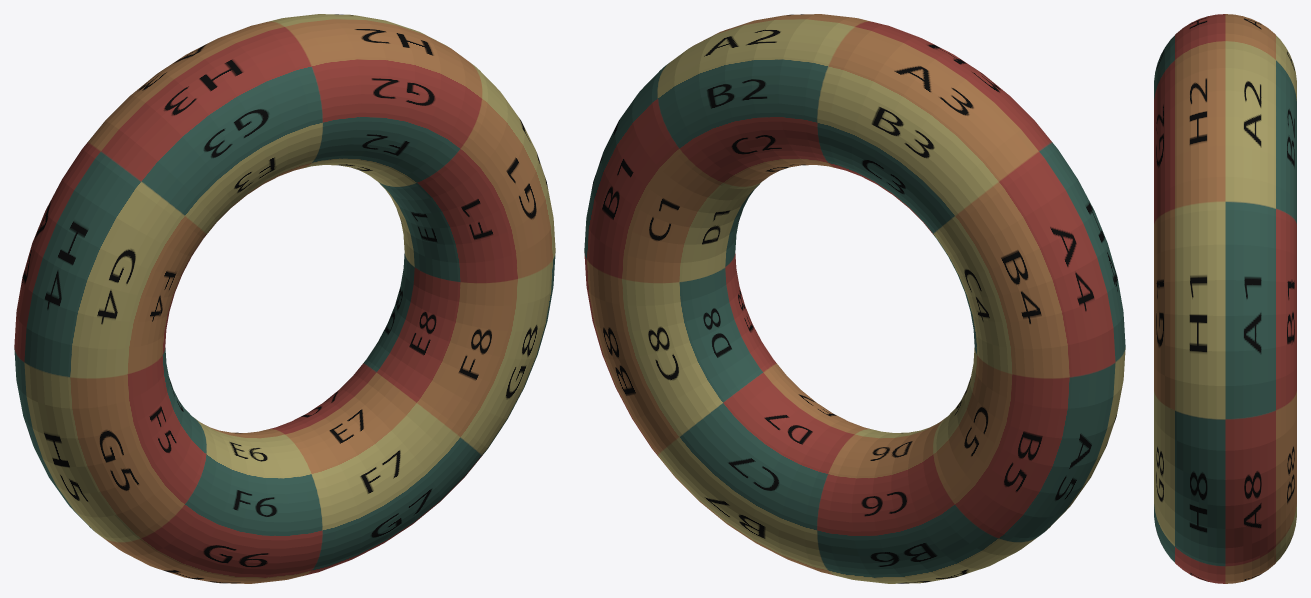
The model's file is texture_torus_R19_r21.glb.
3 renders of one model, left to right at view 1: azimuth 30°, elevation 25°; view 2: azimuth 150°, elevation 25°; view 3: azimuth 270°, elevation 25°, orthographic. The views are drawn at different scales.
Parts seen in each view (by area): view 1: world; view 2: world; view 3: world.
Part boxes in pixels (left/top/right/bottom): world: left=14, top=14, right=555, bottom=583; world: left=584, top=14, right=1125, bottom=583; world: left=1154, top=14, right=1296, bottom=583.
Bounding box in the file's own units: 30.27 × 30.21 × 7.59.
Materials: 1 (1 with a texture image).
